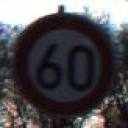speed_limit_60: (11, 10, 117, 118)
